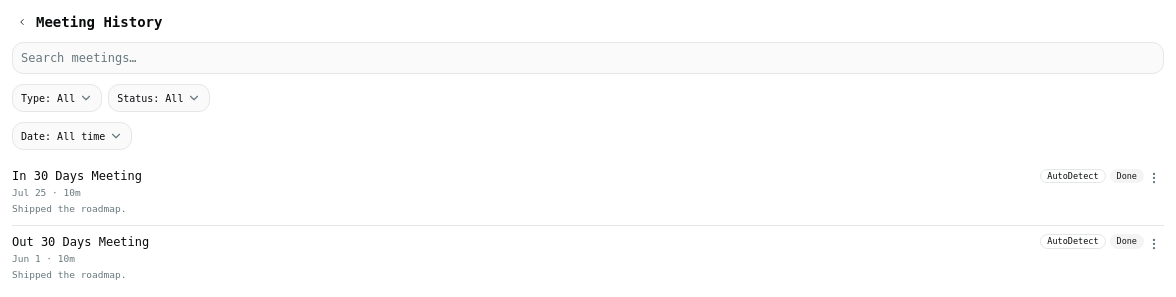
Test: MeetingHistory › Date filter › narrows to a rolling last-30-days window when 'Last 30 days' is selected
Check: the text "In 30 Days Meeting" is shown, box [12,168,142,184]
Click the dropdown labelled "Date: All time". click: (72, 136)
box: [12,122,132,150]
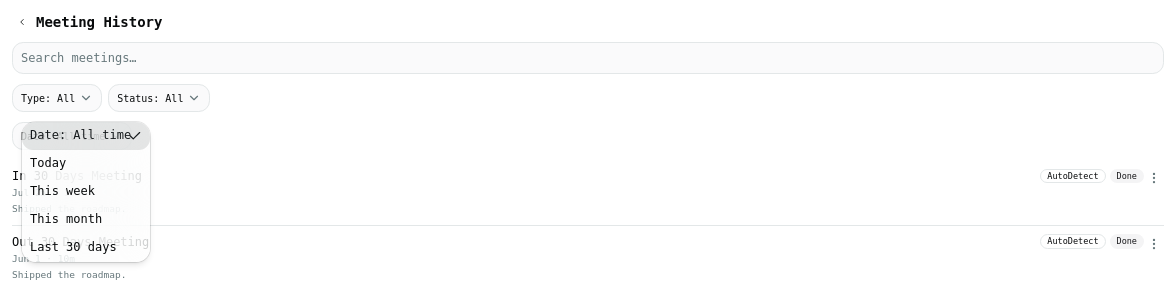
Click the option "Last 30 days". click: (73, 247)
box: [30,240,117,254]
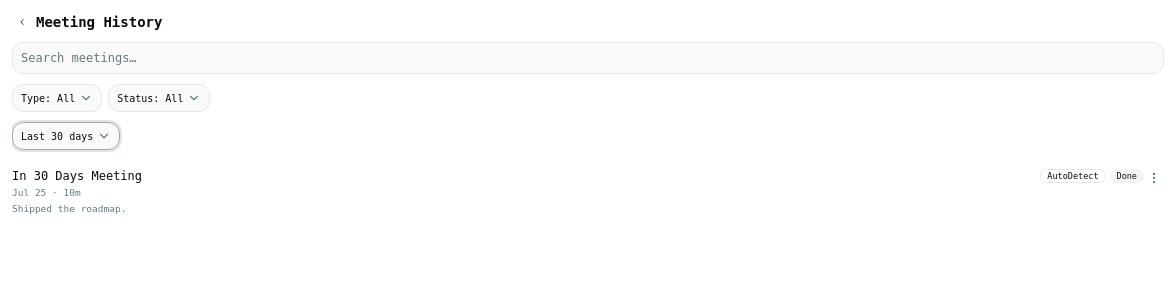
Check: the text "In 30 Days Meeting" is shown, box [12,168,142,184]
Check: the text "Out 30 Days Meeting" is gone
